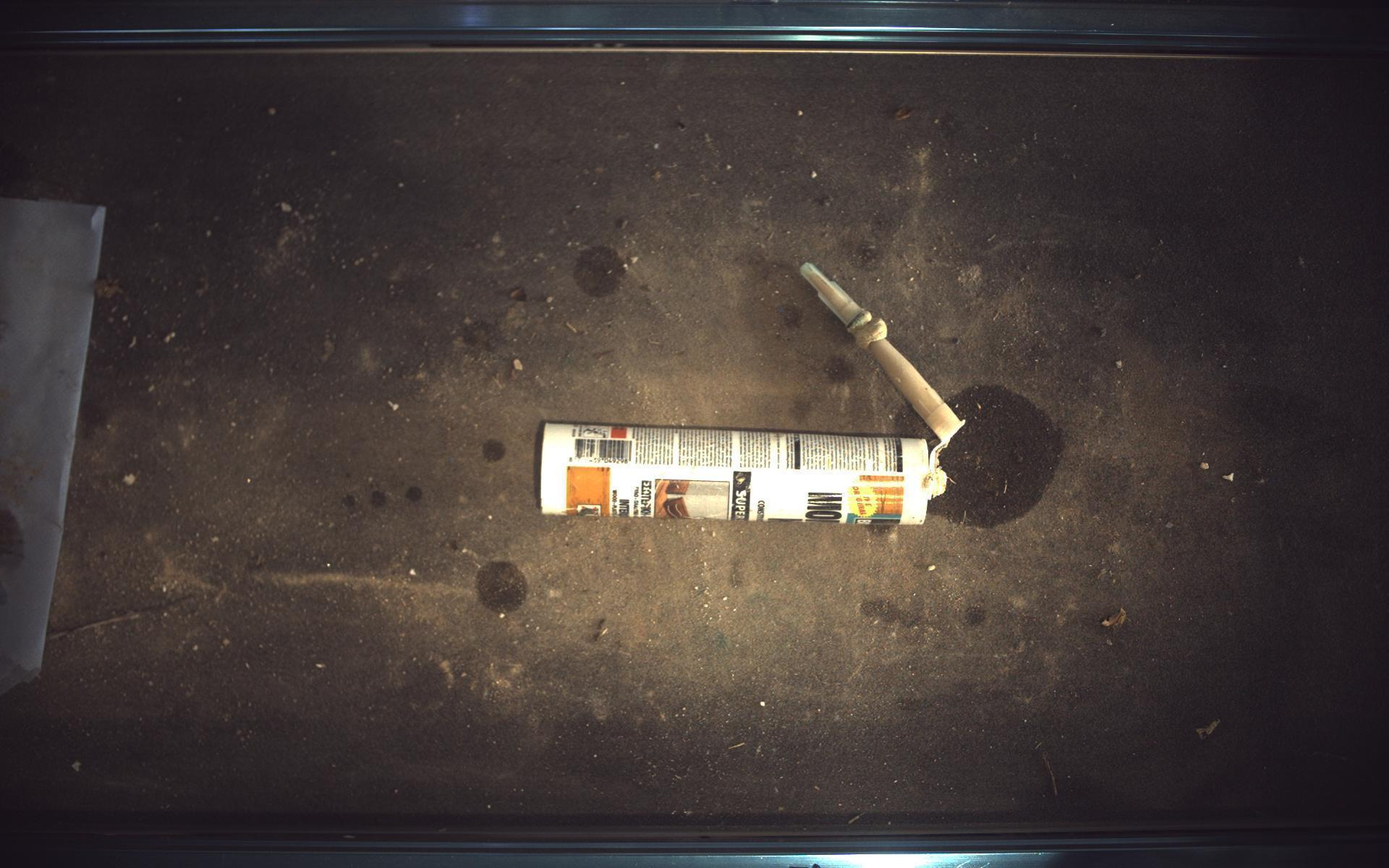plastic: (540, 263, 965, 525)
